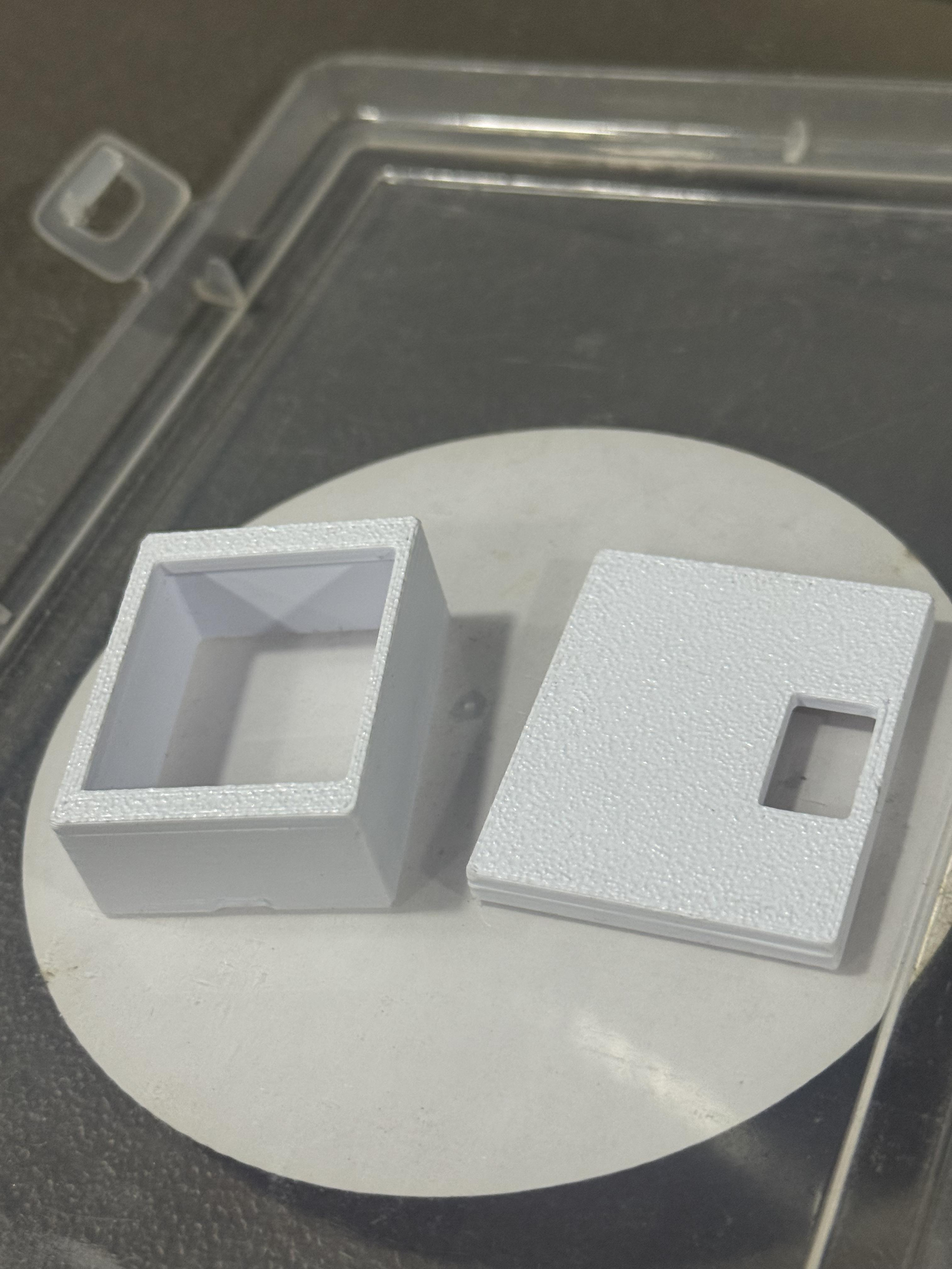enclosure: (464, 533, 950, 977), (48, 514, 457, 919)
